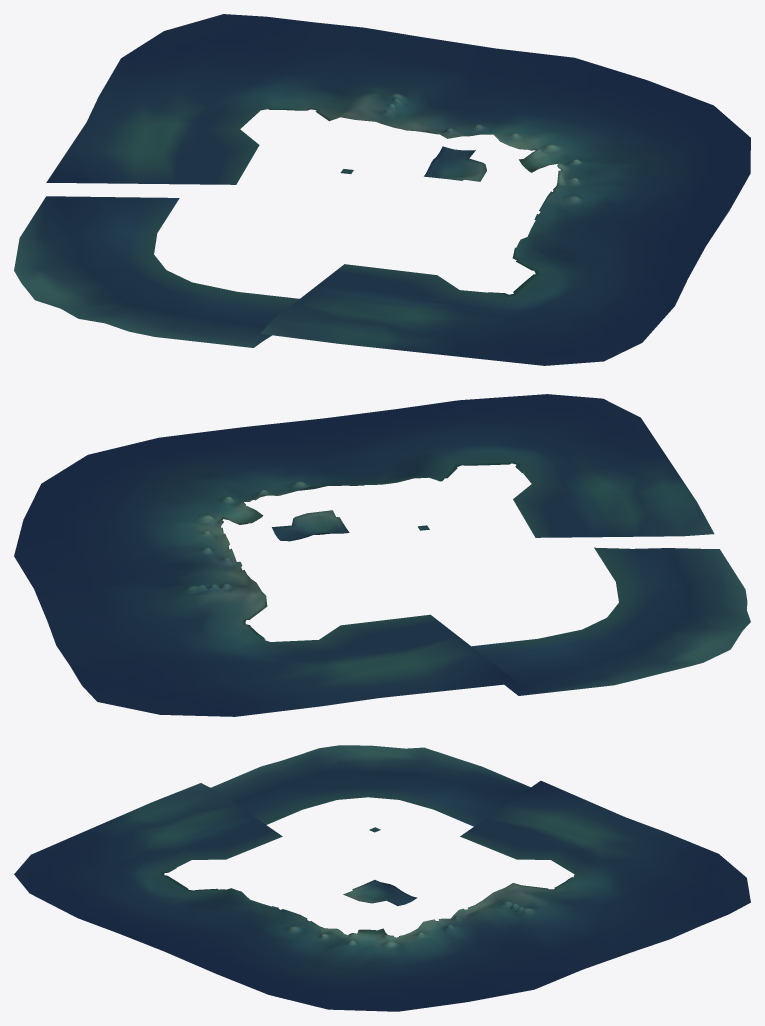
File: MSH_ENV_SquareArena_Seabed.FBX
3 renders of one model, top to bottom at view 1: azimuth 30°, elevation 25°; view 2: azimuth 150°, elevation 25°; view 3: azimuth 270°, elevation 25°, orthographic. The views are drawn at different scales.
Visible parts, largest first — view 1: ENV_SquareArena_Seabed; view 2: ENV_SquareArena_Seabed; view 3: ENV_SquareArena_Seabed.
Part boxes in pixels (x1,y1,x2,y2): ENV_SquareArena_Seabed: (14,14,750,365); ENV_SquareArena_Seabed: (14,394,750,716); ENV_SquareArena_Seabed: (14,745,750,1011).
Bounding box in the file's own units: 114 × 7.88 × 128.
